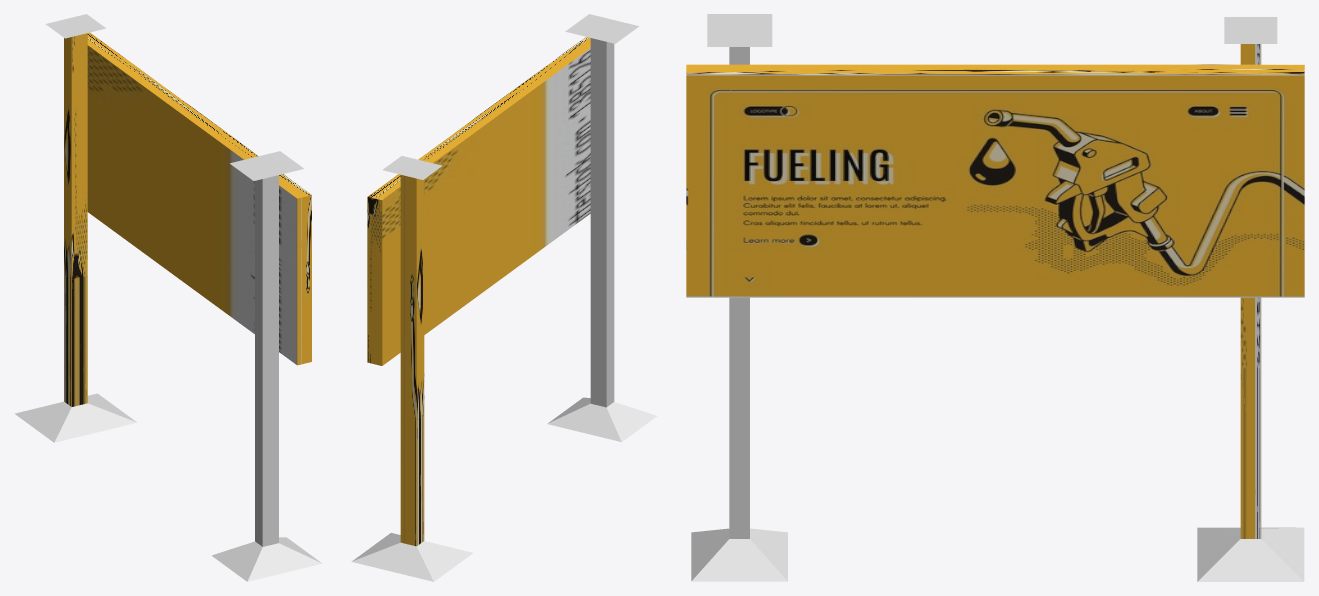
The model's file is fuel board.fbx.
3 renders of one model, left to right at view 1: azimuth 30°, elevation 25°; view 2: azimuth 150°, elevation 25°; view 3: azimuth 270°, elevation 25°, orthographic. The views are drawn at different scales.
Parts seen in each view (by area): view 1: Cube; view 2: Cube; view 3: Cube.
Boxes of the visible parts, bbox=[...] form: Cube: bbox=[15, 14, 321, 581]; Cube: bbox=[351, 14, 656, 581]; Cube: bbox=[686, 14, 1304, 581].
Size of the model in its own units: 104 by 472 by 502.
2 materials, 1 textured.
